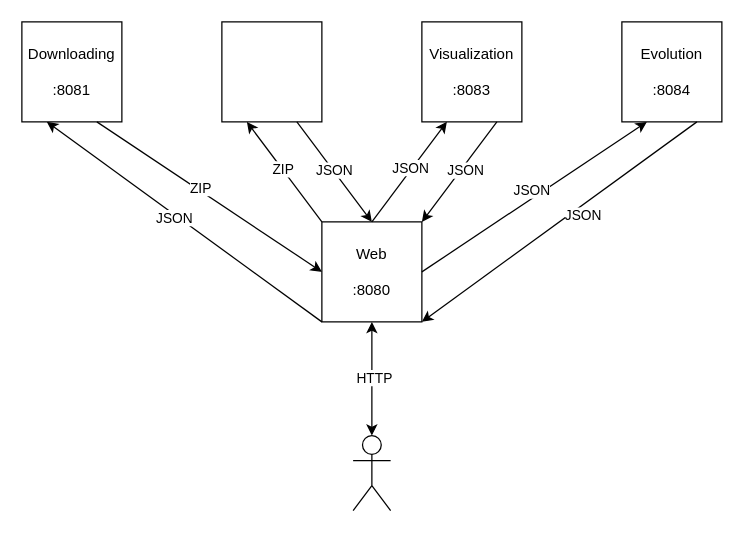
Image size: 744x559. Some labels were removed from this diagram. Here are the shapes that lost their labels. From the top down, the centre of each, then its label:
the point at 271,71: Reverse Engineering :8082
the point at 371,472: Actor
